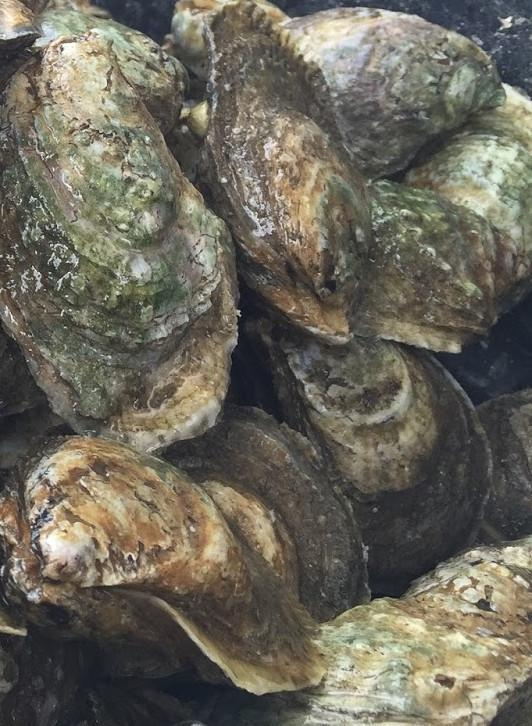Oyster-Closed: (0, 35, 238, 456), (0, 436, 330, 692), (243, 296, 494, 596), (190, 0, 372, 345), (149, 402, 371, 622), (284, 8, 506, 181), (352, 184, 532, 352), (401, 84, 532, 264)
Oyster-Open: (204, 534, 532, 726), (22, 6, 186, 139), (167, 0, 290, 85), (477, 391, 532, 547), (0, 0, 42, 63)
